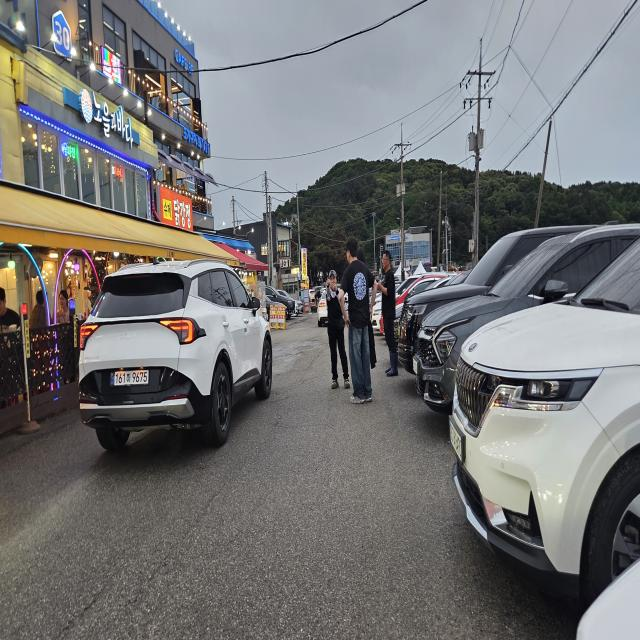car: (441, 233, 640, 596), (399, 226, 640, 434), (70, 256, 276, 450)
